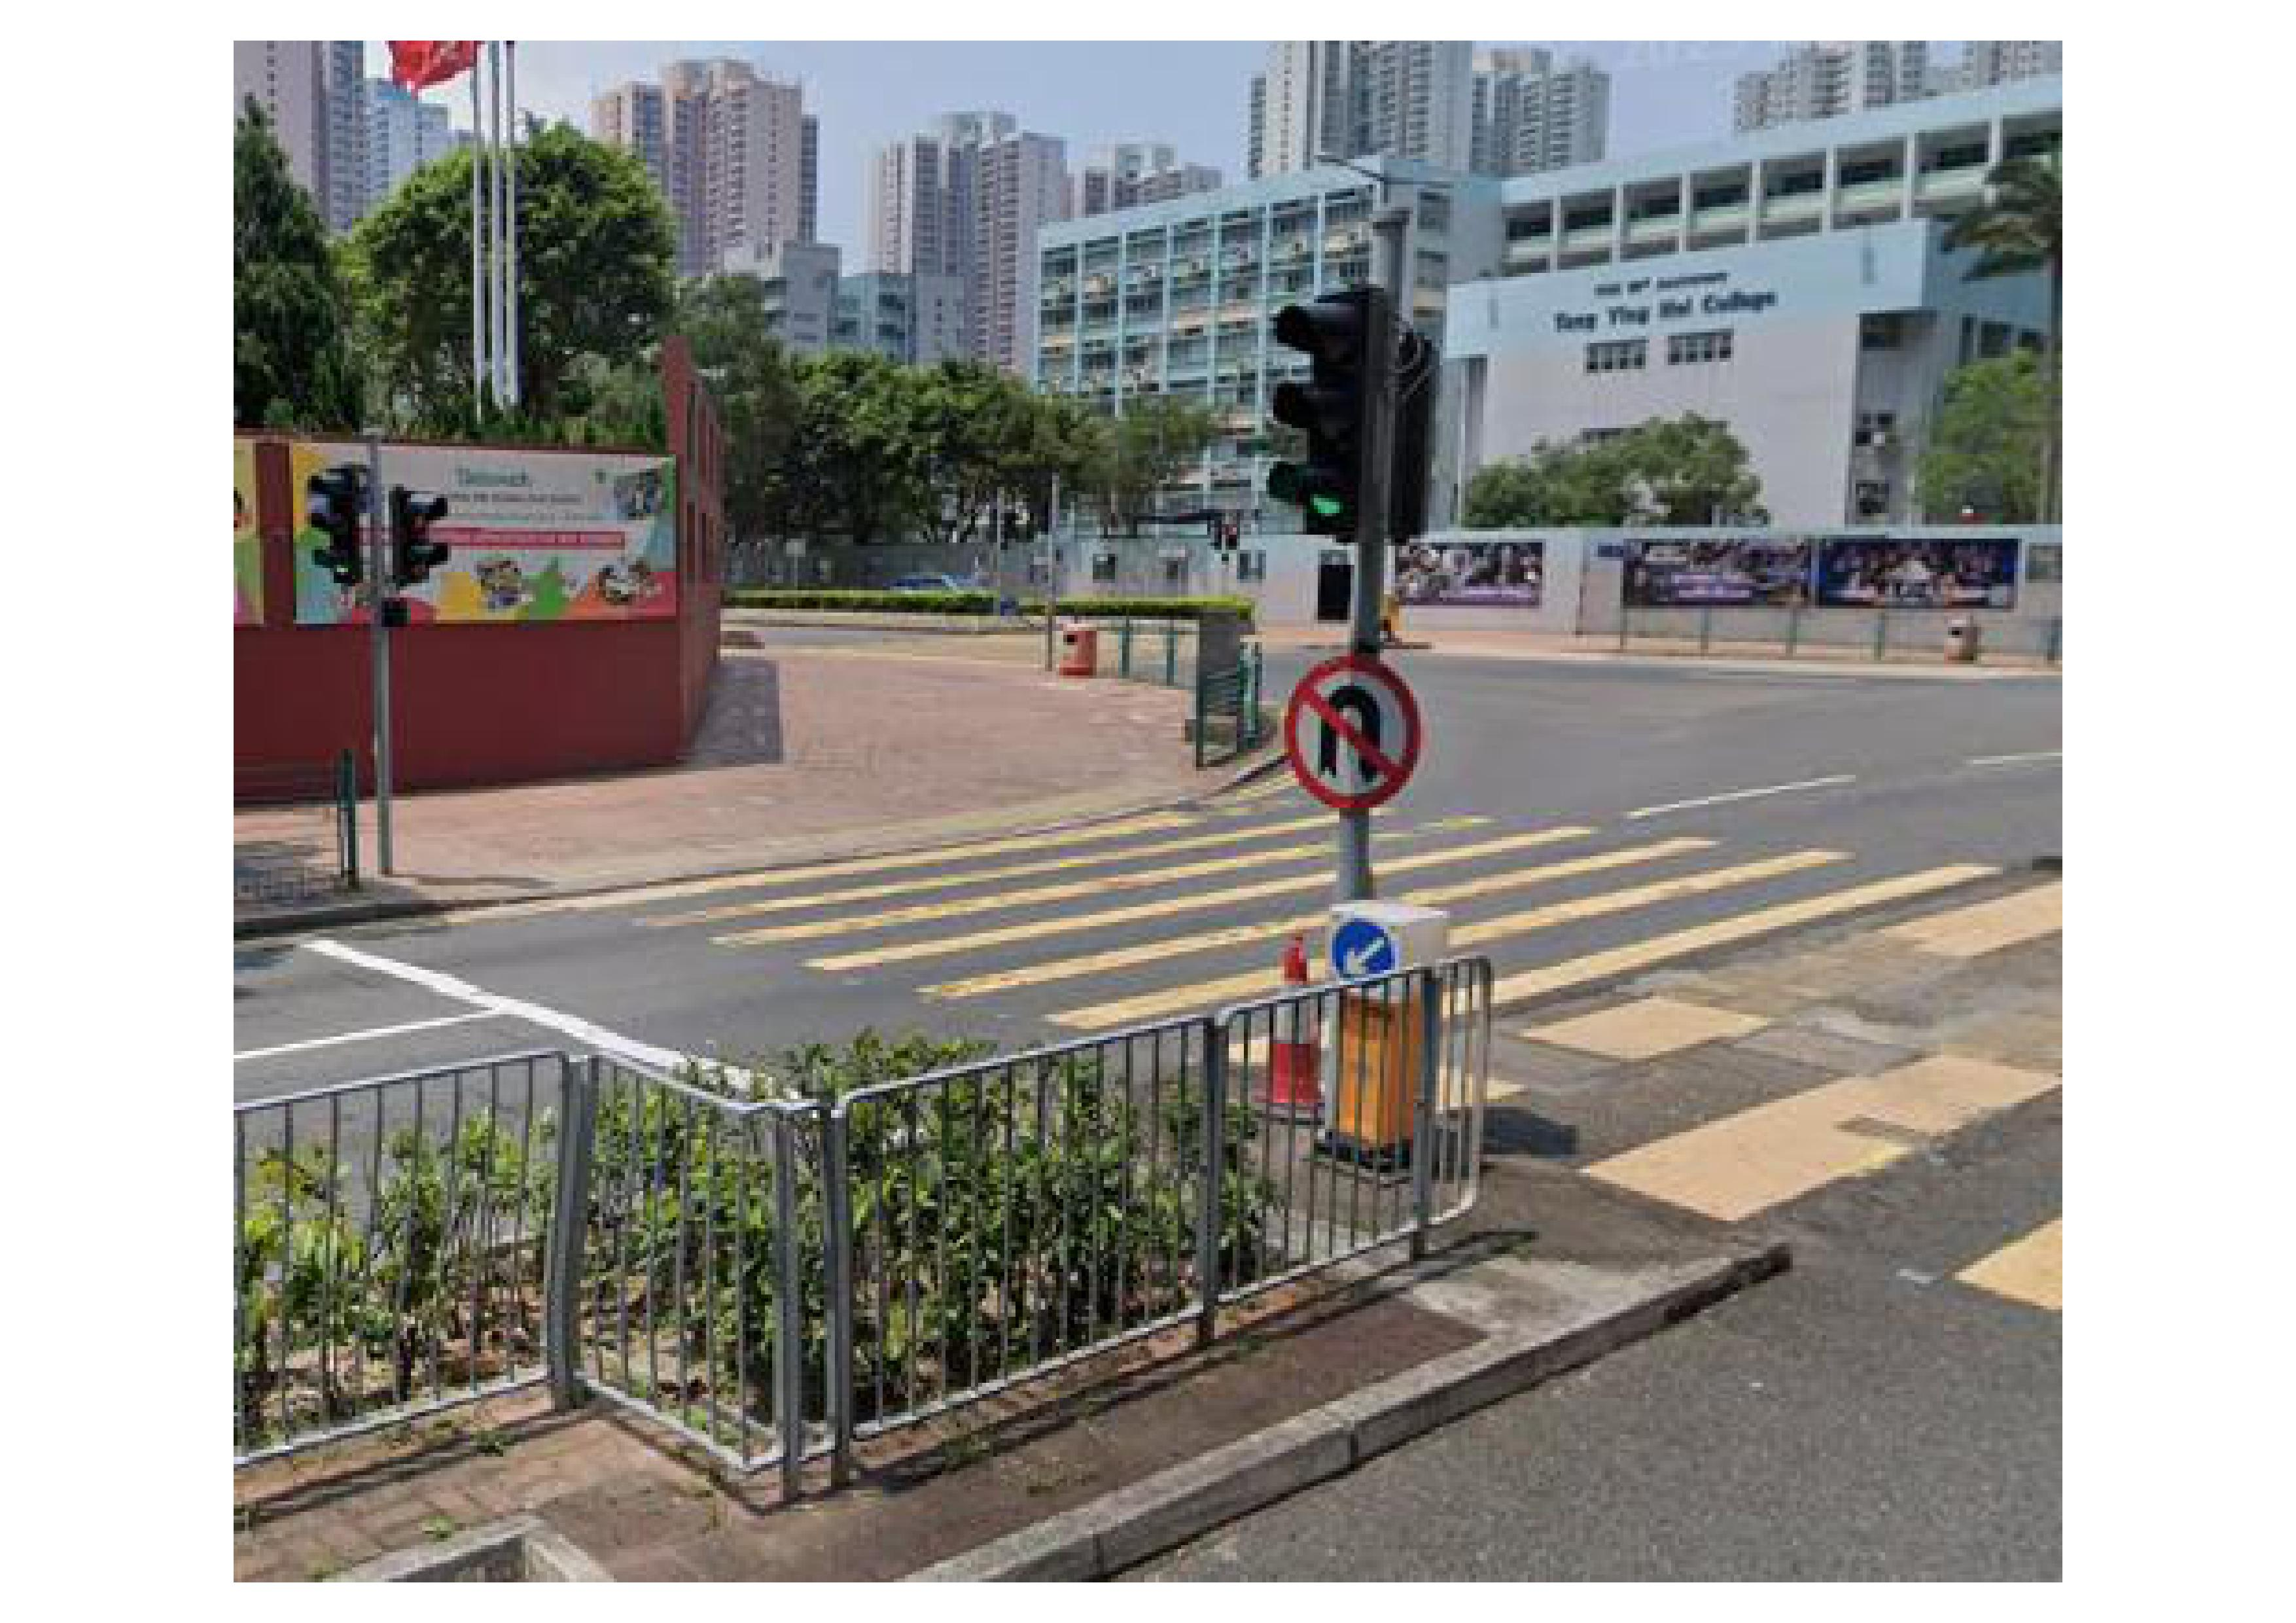No Uturn: (1274, 650, 1432, 813)
